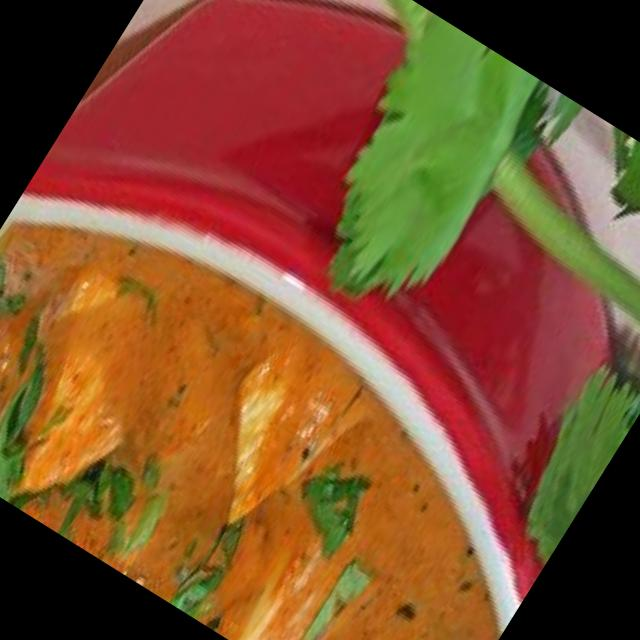ShahiPaneer: (0, 143, 595, 640)
